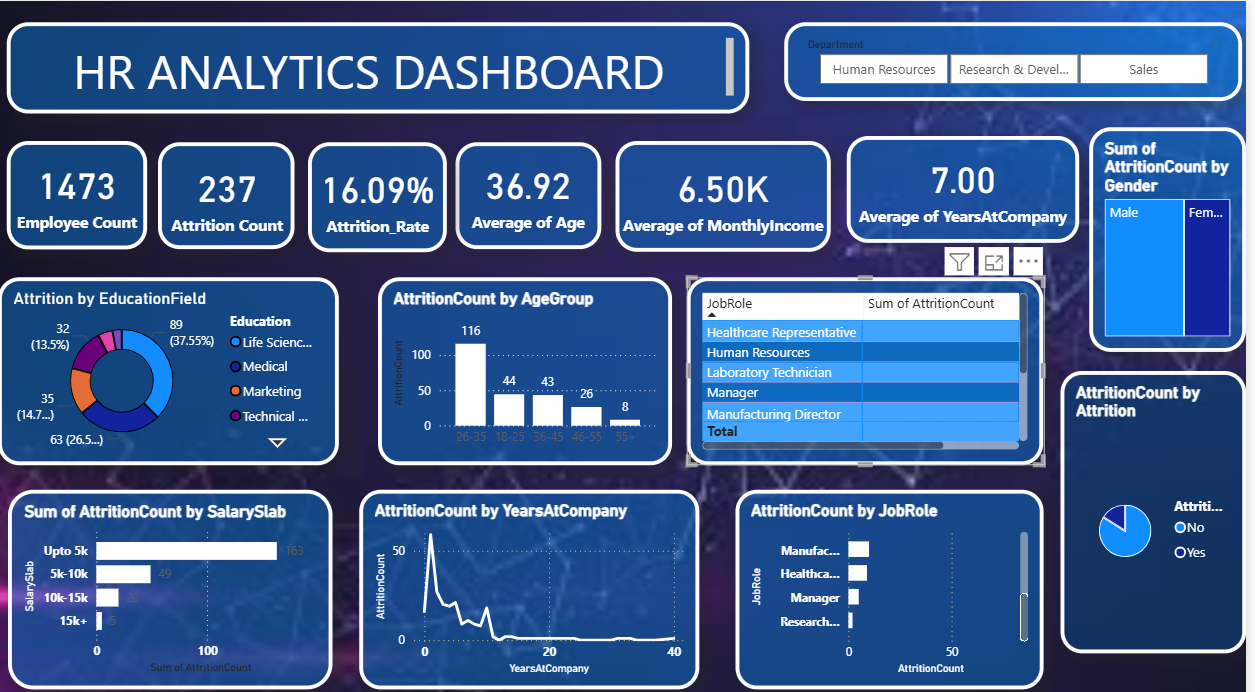

Layout of this report page (visuals, bound fields, positions):
{"tool":"powerbi","page":{"name":"Hr Analytics Dashboard","canvas":[1280,720],"ordinal":0},"visuals":[{"type":"textbox","box":[9.6,22,761.6,93.3],"z":0},{"type":"card","fields":{"Values":["Sum(HR_Analytics.Count of employee)"]},"box":[9.6,144.1,144.1,111.1],"z":1000},{"type":"card","fields":{"Values":["Sum(HR_Analytics.AttritionCount)"]},"box":[164.7,145.5,140,109.8],"z":2000},{"type":"card","fields":{"Values":["Avg(HR_Analytics.Age)"]},"box":[469.3,145.5,149.6,109.8],"z":3000},{"type":"card","fields":{"Values":["Avg(HR_Analytics.MonthlyIncome)"]},"box":[634,144.1,220.9,113.9],"z":4000},{"type":"card","fields":{"Values":["Avg(HR_Analytics.YearsAtCompany)"]},"box":[866.2,143.6,238.9,109.8],"z":5000},{"type":"card","fields":{"Values":["HR_Analytics.Attrition_Rate"]},"box":[318.4,145.5,142.7,112.5],"z":6000},{"type":"treemap","fields":{"Group":["HR_Analytics.Gender"],"Values":["Sum(HR_Analytics.AttritionCount)"]},"box":[1119.6,129.1,160.5,230.4],"z":7000},{"type":"donutChart","fields":{"Category":["HR_Analytics.EducationField"],"Y":["Sum(HR_Analytics.AttritionCount)"]},"box":[0,283.5,349.9,193],"z":8000},{"type":"clusteredColumnChart","fields":{"Y":["Sum(HR_Analytics.AttritionCount)"],"Category":["HR_Analytics.AgeGroup"]},"box":[389.7,283.5,301.6,193],"z":9000},{"type":"pieChart","fields":{"Category":["HR_Analytics.Attrition"],"Y":["CountNonNull(HR_Analytics.AttritionCount)"]},"box":[1089.4,380,190.6,289.5],"z":10000},{"type":"pivotTable","fields":{"Rows":["HR_Analytics.JobRole"],"Values":["Sum(HR_Analytics.AttritionCount)"]},"box":[707,283.5,365.6,193],"z":11000},{"type":"barChart","fields":{"Category":["HR_Analytics.SalarySlab"],"Y":["Sum(HR_Analytics.AttritionCount)"]},"box":[9.7,501.9,333,205.1],"z":12000},{"type":"lineChart","fields":{"Y":["Sum(HR_Analytics.AttritionCount)"],"Category":["HR_Analytics.YearsAtCompany"]},"box":[370.4,501.9,348.7,205.1],"z":13000},{"type":"barChart","fields":{"Category":["HR_Analytics.JobRole"],"Y":["Sum(HR_Analytics.AttritionCount)"]},"box":[756.4,501.9,316.1,205.1],"z":14000},{"type":"slicer","fields":{"Values":["HR_Analytics.Department"]},"box":[806.9,22,469.3,81],"z":15000}]}

Visuals, with their boxes in screenshot pixels (x1, y1, x2, y2), scaled from the page's 1280x720 canvas onto the 1255x692 screenshot:
textbox: crop(9, 21, 756, 111)
card - Sum(HR_Analytics.Count of employee): crop(9, 138, 151, 245)
card - Sum(HR_Analytics.AttritionCount): crop(161, 140, 299, 245)
card - Avg(HR_Analytics.Age): crop(460, 140, 607, 245)
card - Avg(HR_Analytics.MonthlyIncome): crop(622, 138, 838, 248)
card - Avg(HR_Analytics.YearsAtCompany): crop(849, 138, 1084, 244)
card - HR_Analytics.Attrition_Rate: crop(312, 140, 452, 248)
treemap - HR_Analytics.Gender x Sum(HR_Analytics.AttritionCount): crop(1098, 124, 1254, 346)
donutChart - HR_Analytics.EducationField x Sum(HR_Analytics.AttritionCount): crop(0, 272, 343, 458)
clusteredColumnChart - Sum(HR_Analytics.AttritionCount) x HR_Analytics.AgeGroup: crop(382, 272, 678, 458)
pieChart - HR_Analytics.Attrition x CountNonNull(HR_Analytics.AttritionCount): crop(1068, 365, 1254, 643)
pivotTable - HR_Analytics.JobRole x Sum(HR_Analytics.AttritionCount): crop(693, 272, 1052, 458)
barChart - HR_Analytics.SalarySlab x Sum(HR_Analytics.AttritionCount): crop(10, 482, 336, 680)
lineChart - Sum(HR_Analytics.AttritionCount) x HR_Analytics.YearsAtCompany: crop(363, 482, 705, 680)
barChart - HR_Analytics.JobRole x Sum(HR_Analytics.AttritionCount): crop(742, 482, 1052, 680)
slicer - HR_Analytics.Department: crop(791, 21, 1251, 99)
